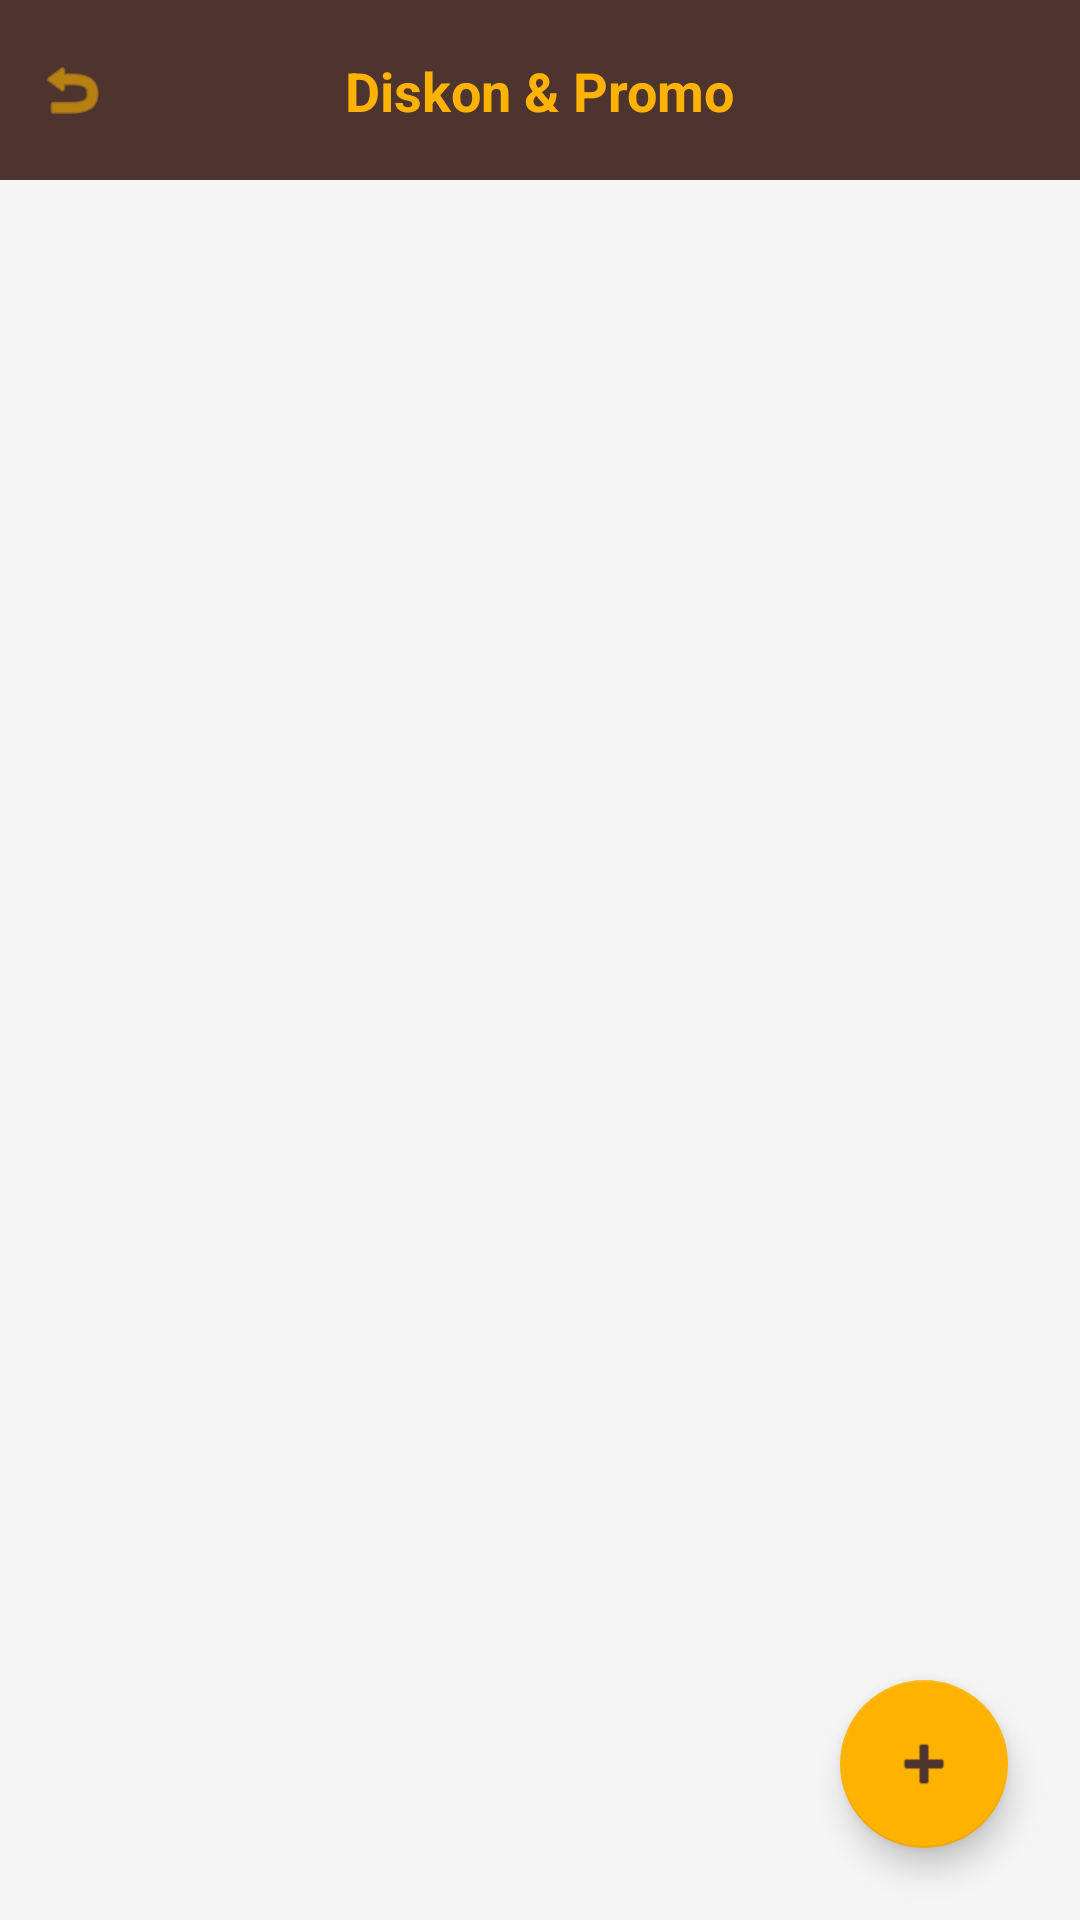

Icon click points for this 1080w x 1920h phone screenshot, format (x,y):
add: (924,1764)
revert: (73,90)
